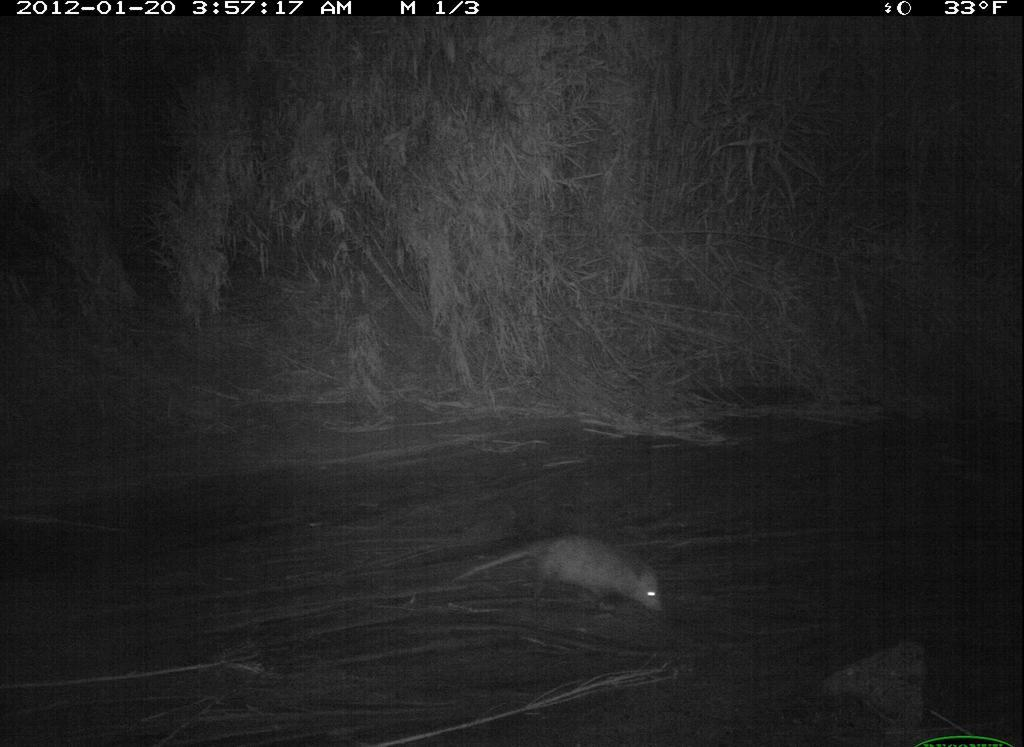opossum: (447, 523, 669, 621)
